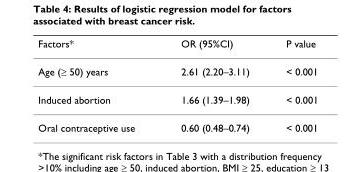table: (37, 37, 317, 133)
table column: (37, 37, 157, 133), (157, 37, 267, 133), (267, 37, 317, 133)
table column header: (37, 37, 317, 56)
table row: (37, 56, 317, 85), (37, 85, 317, 113), (37, 113, 317, 133), (37, 37, 317, 56)
